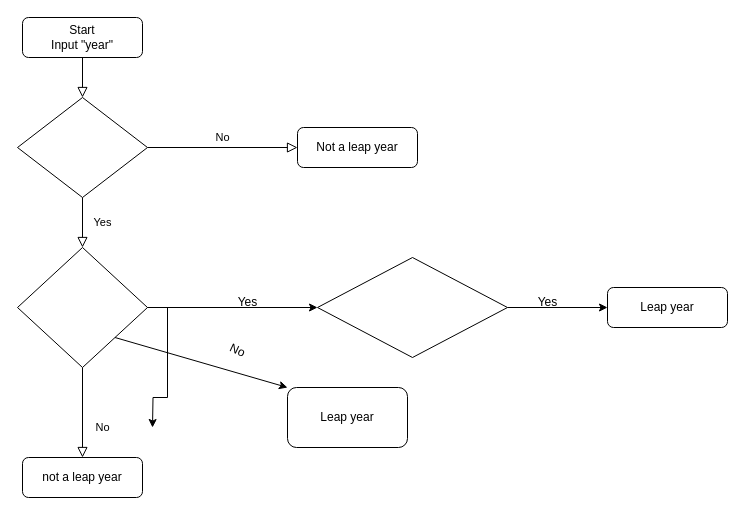
Some shapes in this 745 by 515 pixel diagram are drawn without their labels. The shapes that lost their labels are listed below. From the top down, each one's centre as x and y in pixels, then its label:
pixel 82 147: can the number evenly be divided by 4?
pixel 82 307: can it be evenly divided by 100
pixel 412 307: Can it be divided evenly by 400
